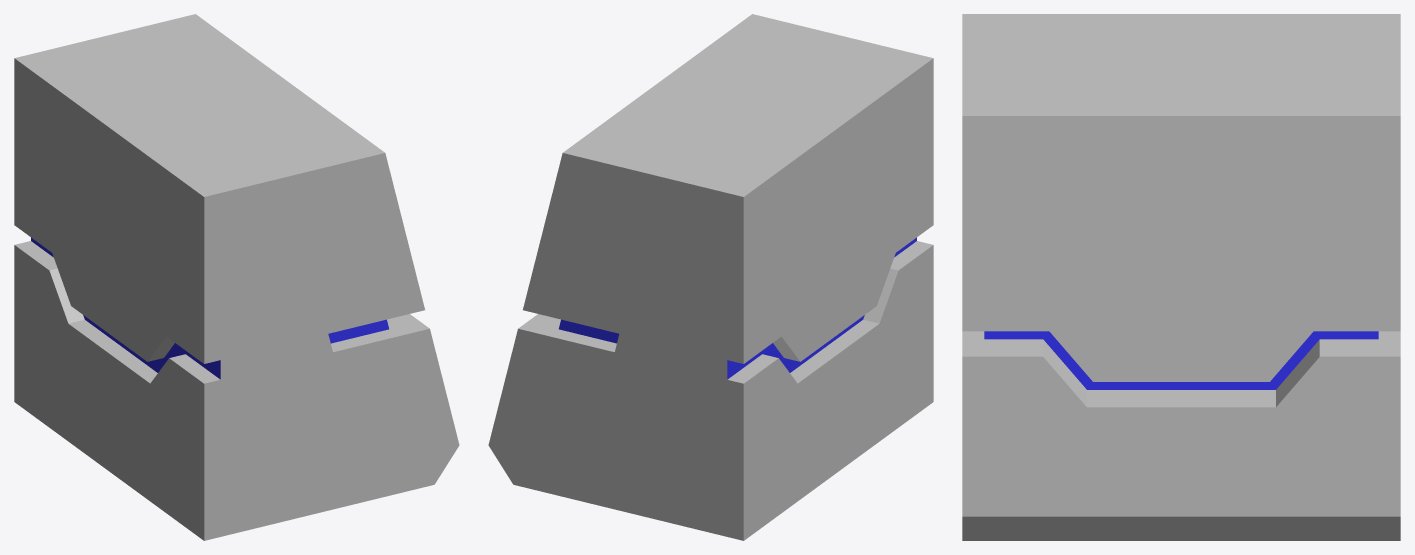
Rendered from x_ZAMOK_ZABOR_wall_part1_1_rmstrd.fbx.
3 renders of one model, left to right at view 1: azimuth 30°, elevation 25°; view 2: azimuth 150°, elevation 25°; view 3: azimuth 270°, elevation 25°, orthographic. The views are drawn at different scales.
Visible parts, largest first — view 1: x_ZAMOK_ZABOR_wall_part1_1_rmstrd1; view 2: x_ZAMOK_ZABOR_wall_part1_1_rmstrd1; view 3: x_ZAMOK_ZABOR_wall_part1_1_rmstrd1.
Boxes of the visible parts, bbox=[...] form: x_ZAMOK_ZABOR_wall_part1_1_rmstrd1: bbox=[14, 14, 459, 540]; x_ZAMOK_ZABOR_wall_part1_1_rmstrd1: bbox=[488, 14, 933, 540]; x_ZAMOK_ZABOR_wall_part1_1_rmstrd1: bbox=[962, 14, 1400, 540].
Size of the model in its own units: 1.55 by 2 by 2.
